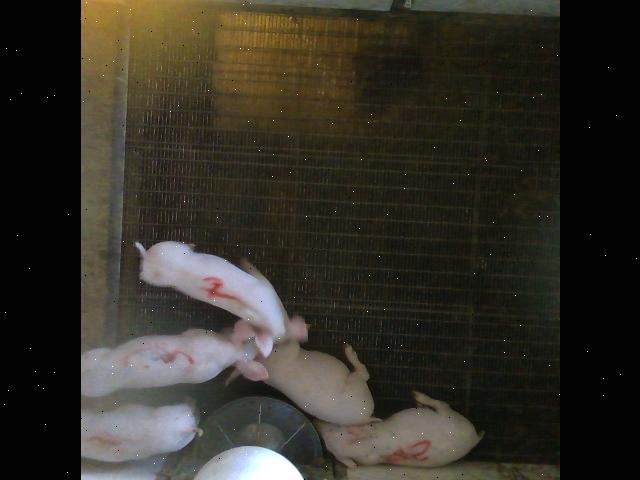pig-1: (81, 404, 200, 461)
pig-3: (81, 320, 268, 398)
pig-4: (136, 241, 305, 356)
pig-5: (314, 391, 482, 468)
